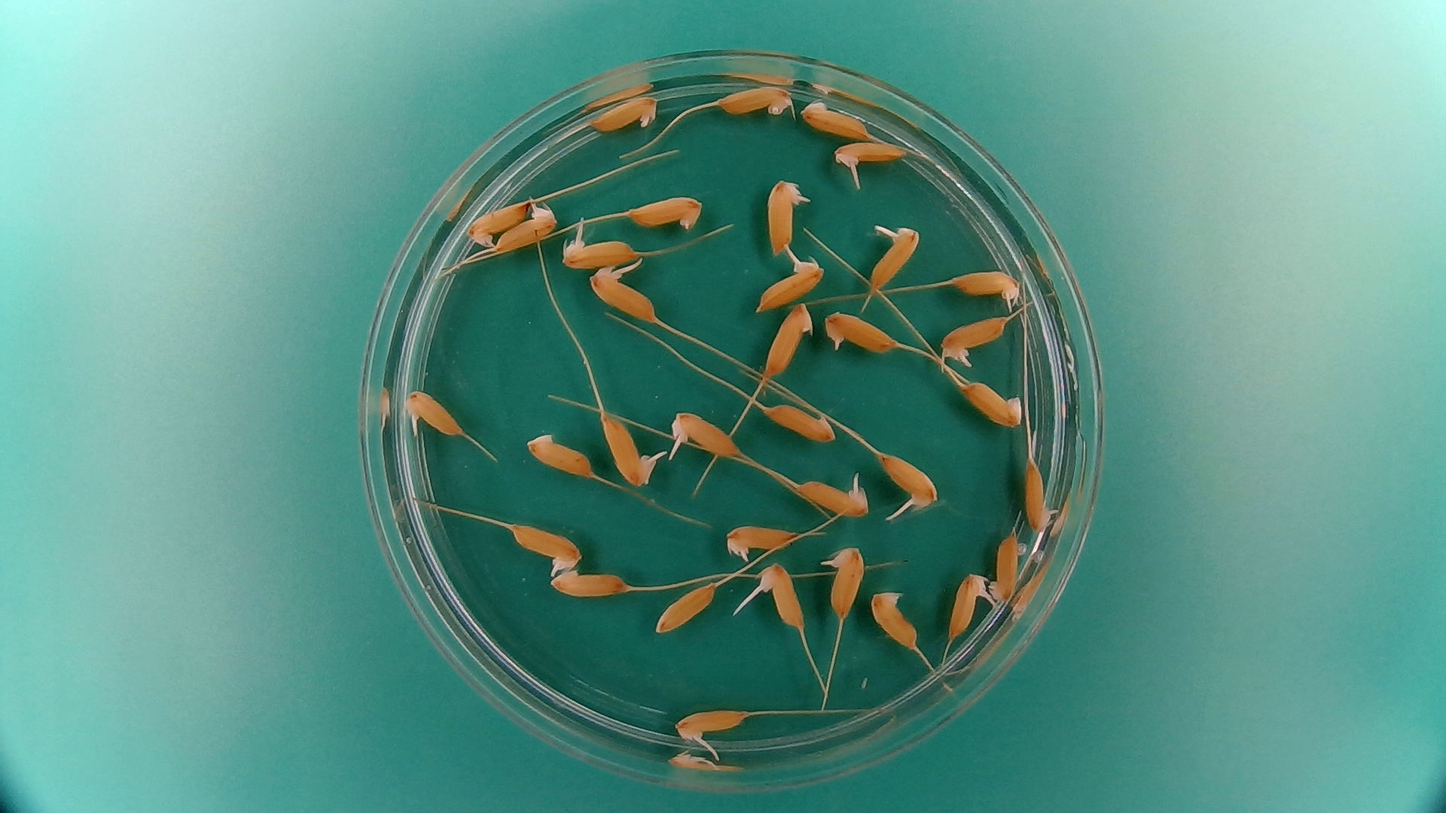no: (762, 301, 815, 378), (626, 190, 706, 233), (526, 430, 596, 478), (798, 96, 873, 140), (868, 587, 920, 650), (960, 378, 1024, 428), (587, 93, 661, 136), (654, 583, 716, 634), (467, 197, 532, 244), (762, 403, 837, 443), (548, 568, 635, 601), (492, 207, 554, 253), (992, 525, 1028, 604), (715, 83, 796, 117)
yes: (599, 414, 652, 489), (586, 269, 657, 324), (508, 522, 583, 574), (937, 315, 1011, 365), (754, 257, 822, 311), (674, 410, 745, 461), (821, 308, 898, 354), (947, 266, 1023, 311), (868, 226, 919, 291), (821, 543, 865, 617), (877, 452, 934, 508), (401, 387, 464, 437), (722, 521, 797, 562), (763, 184, 803, 256), (763, 561, 805, 629), (673, 706, 749, 741), (804, 477, 871, 516), (560, 239, 642, 270), (1024, 455, 1056, 534), (947, 574, 984, 640), (832, 137, 909, 166)
